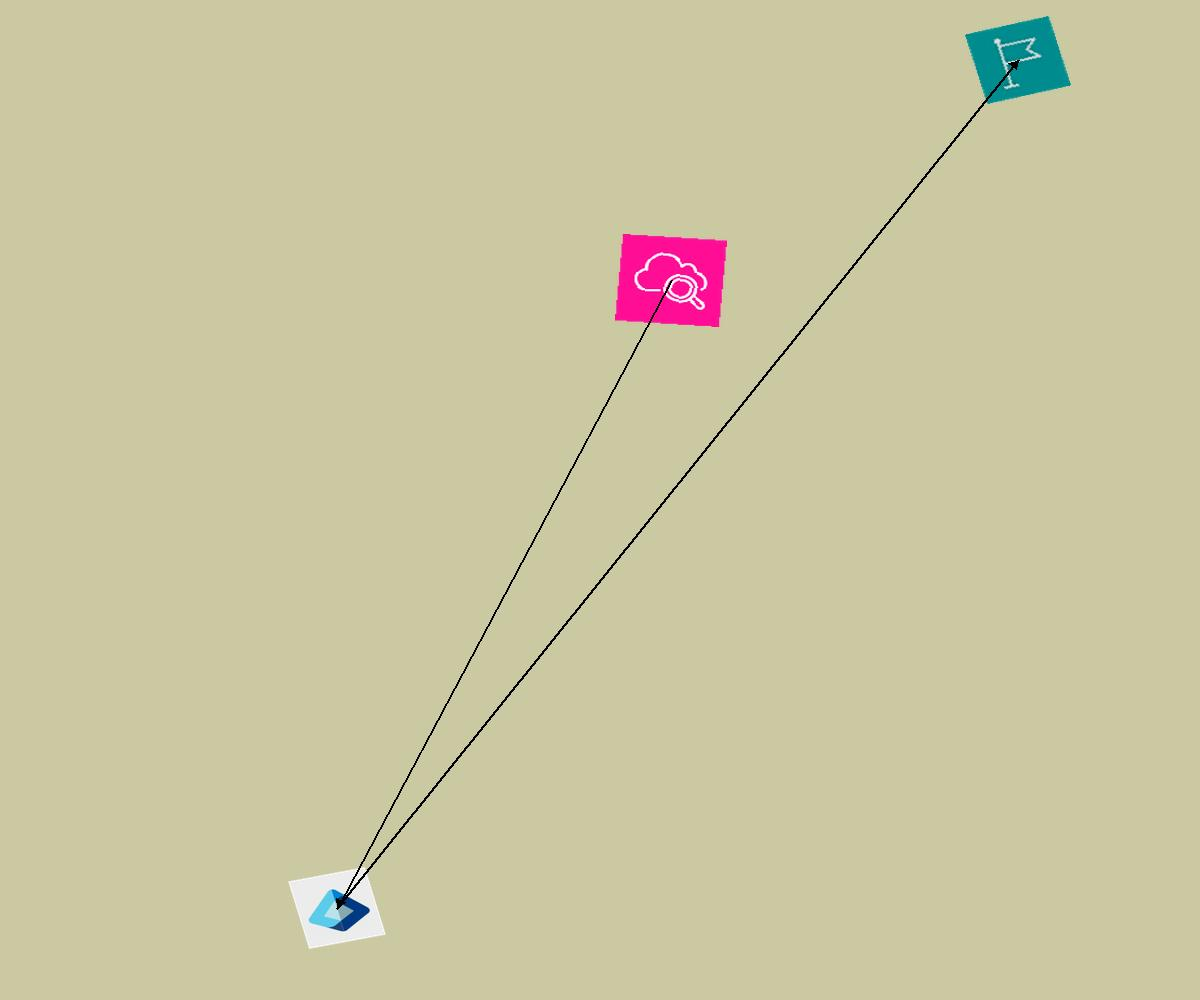AWS-CloudWatch: (615, 234, 727, 327)
AWS-Region: (965, 16, 1071, 104)
Azure_microsoft_entra: (288, 867, 386, 949)
